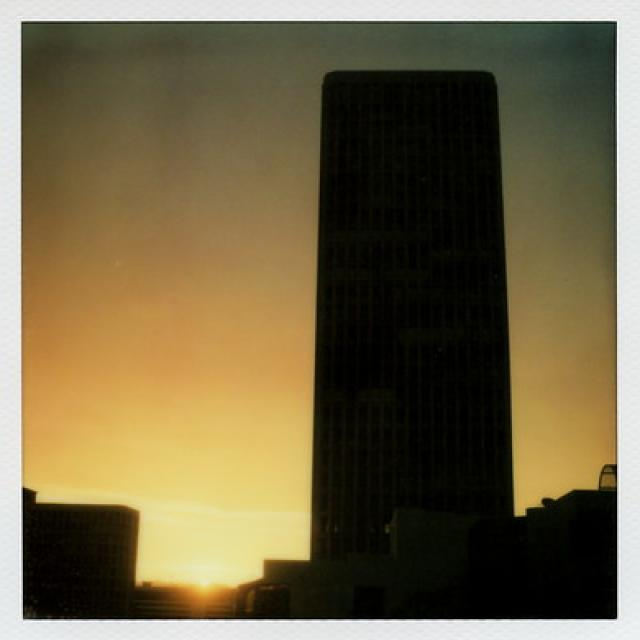building: (314, 64, 520, 611)
